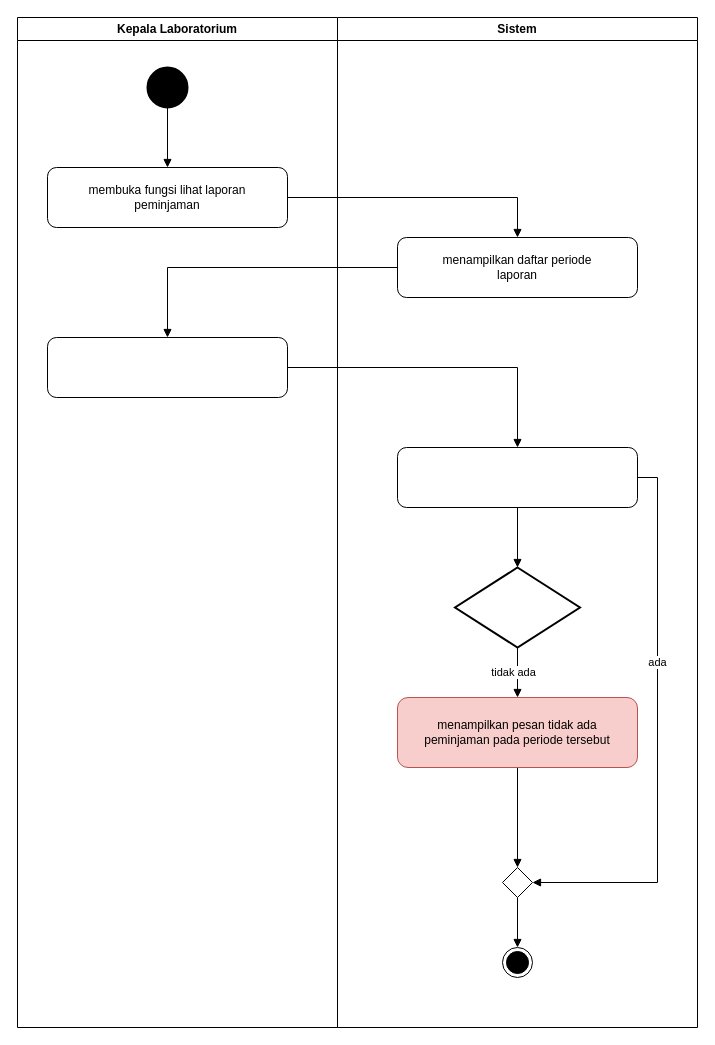
Image size: 715x1045. Some labels were removed from this diagram. Here are the shapes that lost their labels. From the top down, the centre of each, then its label:
At (167,367): "memilih periode laporan".
At (517,477): "menampilkan laporan peminjaman periode yang dipilih".
At (517,607): "ada data peminjaman?".
